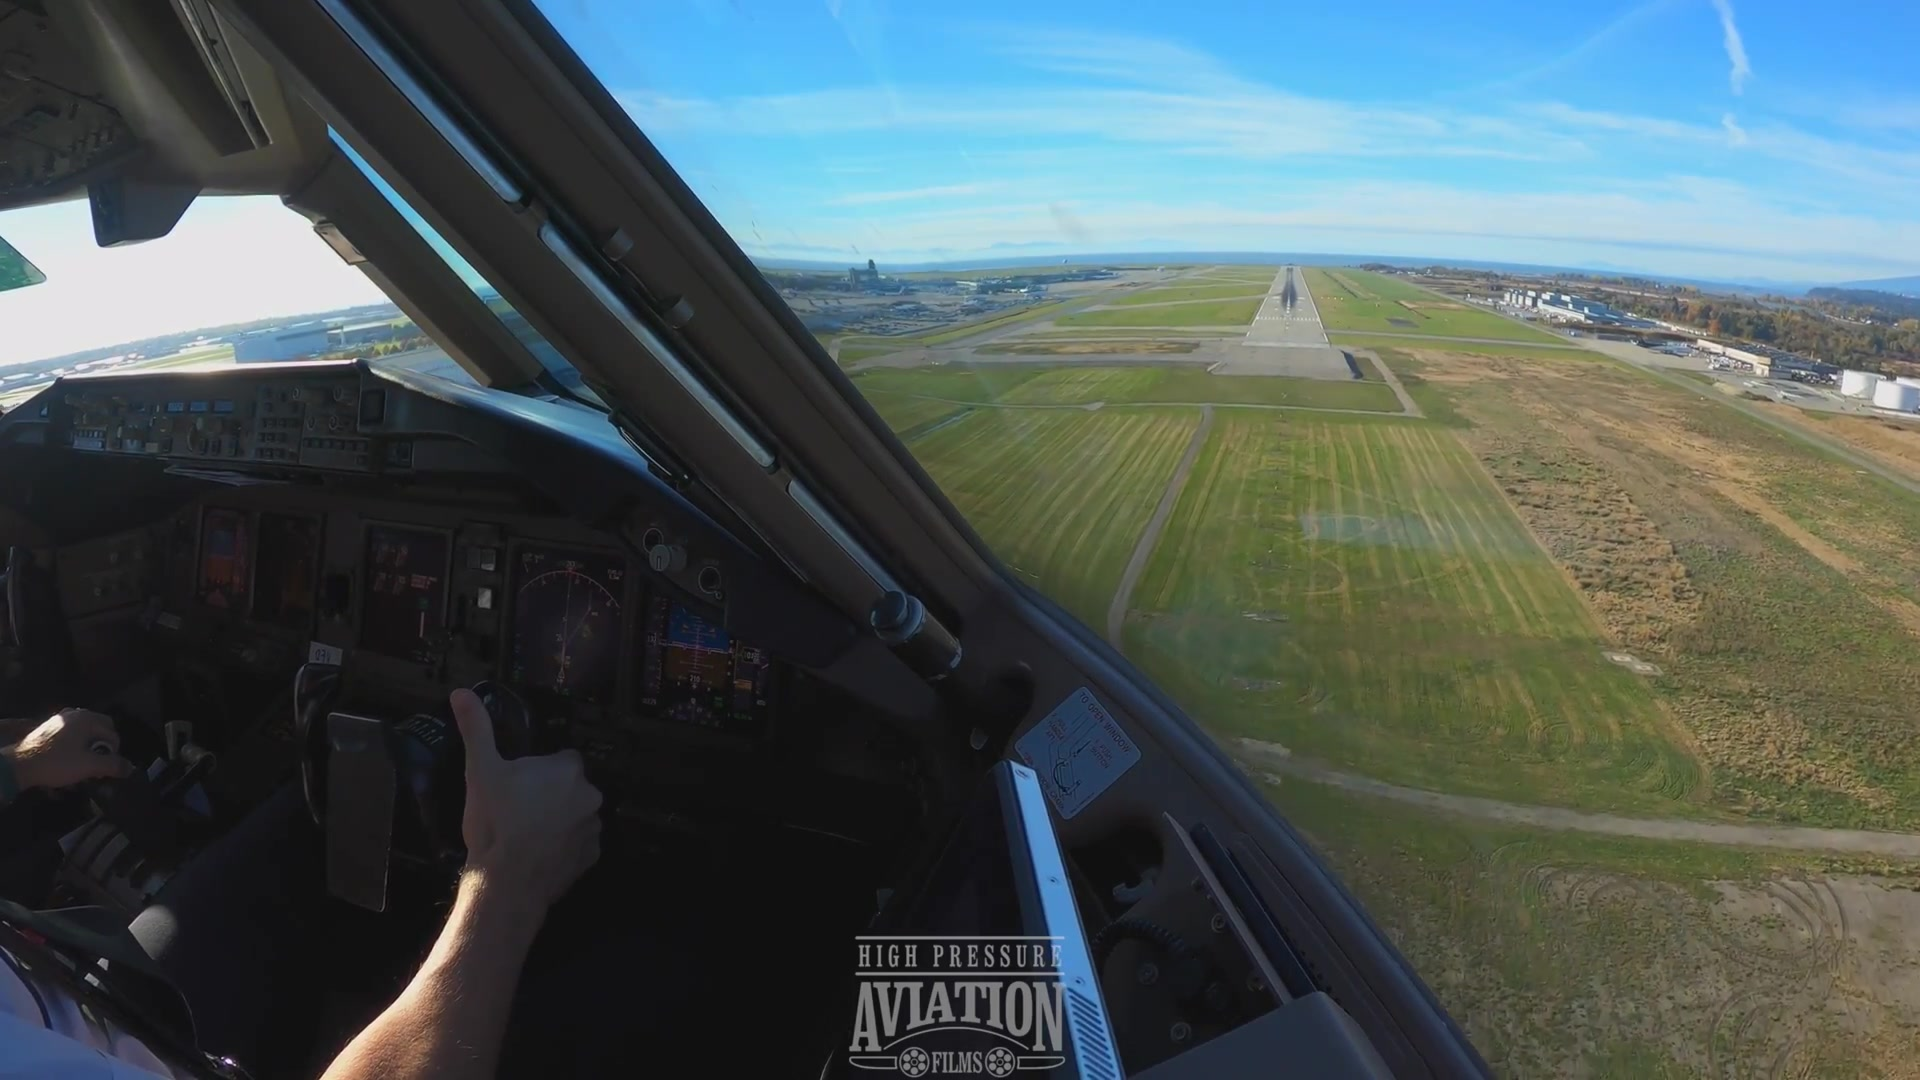entrance: (1251, 314, 1317, 323)
runway: (1240, 268, 1324, 345)
